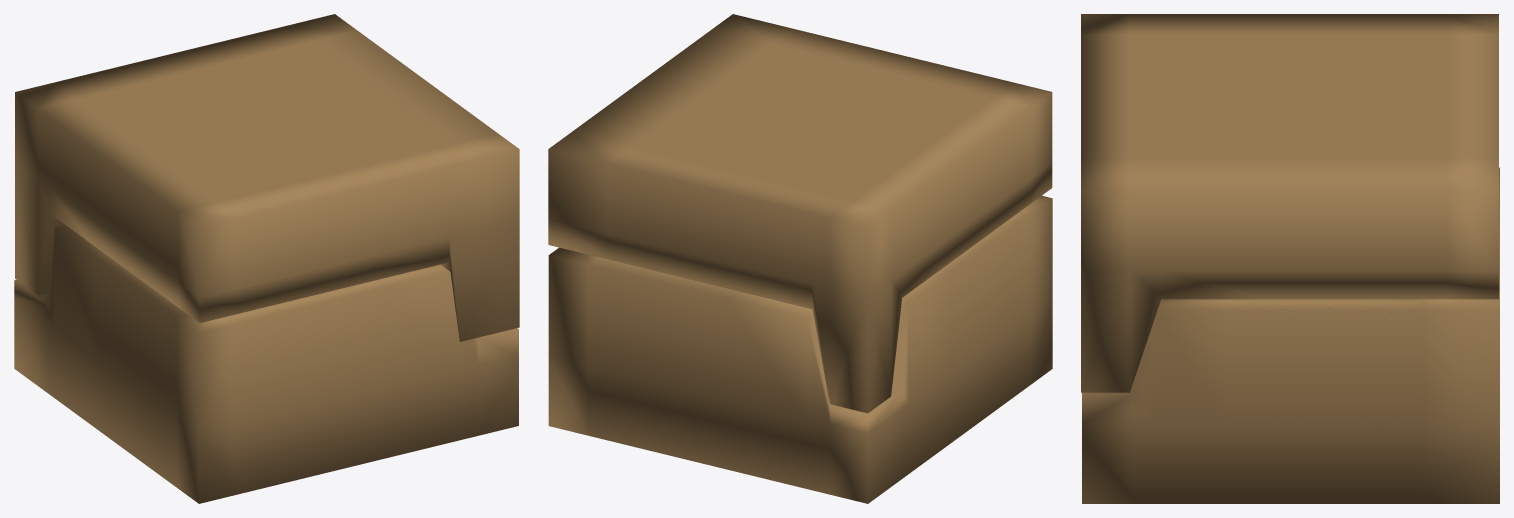
The model's file is Mold.fbx.
3 renders of one model, left to right at view 1: azimuth 30°, elevation 25°; view 2: azimuth 150°, elevation 25°; view 3: azimuth 270°, elevation 25°, orthographic. The views are drawn at different scales.
Visible parts, largest first — view 1: Top, Mold; view 2: Top, Mold; view 3: Top, Mold.
Boxes of the visible parts, x1,y1,x2,y2 form: Top: [15, 14, 519, 341]; Mold: [14, 225, 518, 503]; Top: [548, 14, 1052, 413]; Mold: [548, 195, 1052, 503]; Top: [1081, 14, 1498, 392]; Mold: [1082, 167, 1499, 503].
Size of the model in its own units: 211 by 175 by 211.
2 materials, 2 textured.
